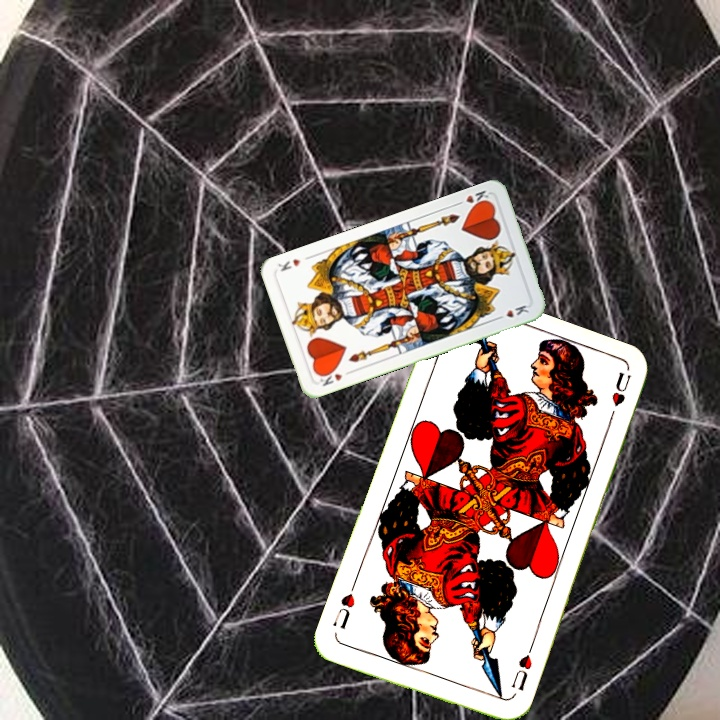HK: (452, 186, 493, 210), (315, 365, 354, 389)
HU: (507, 650, 535, 693)
